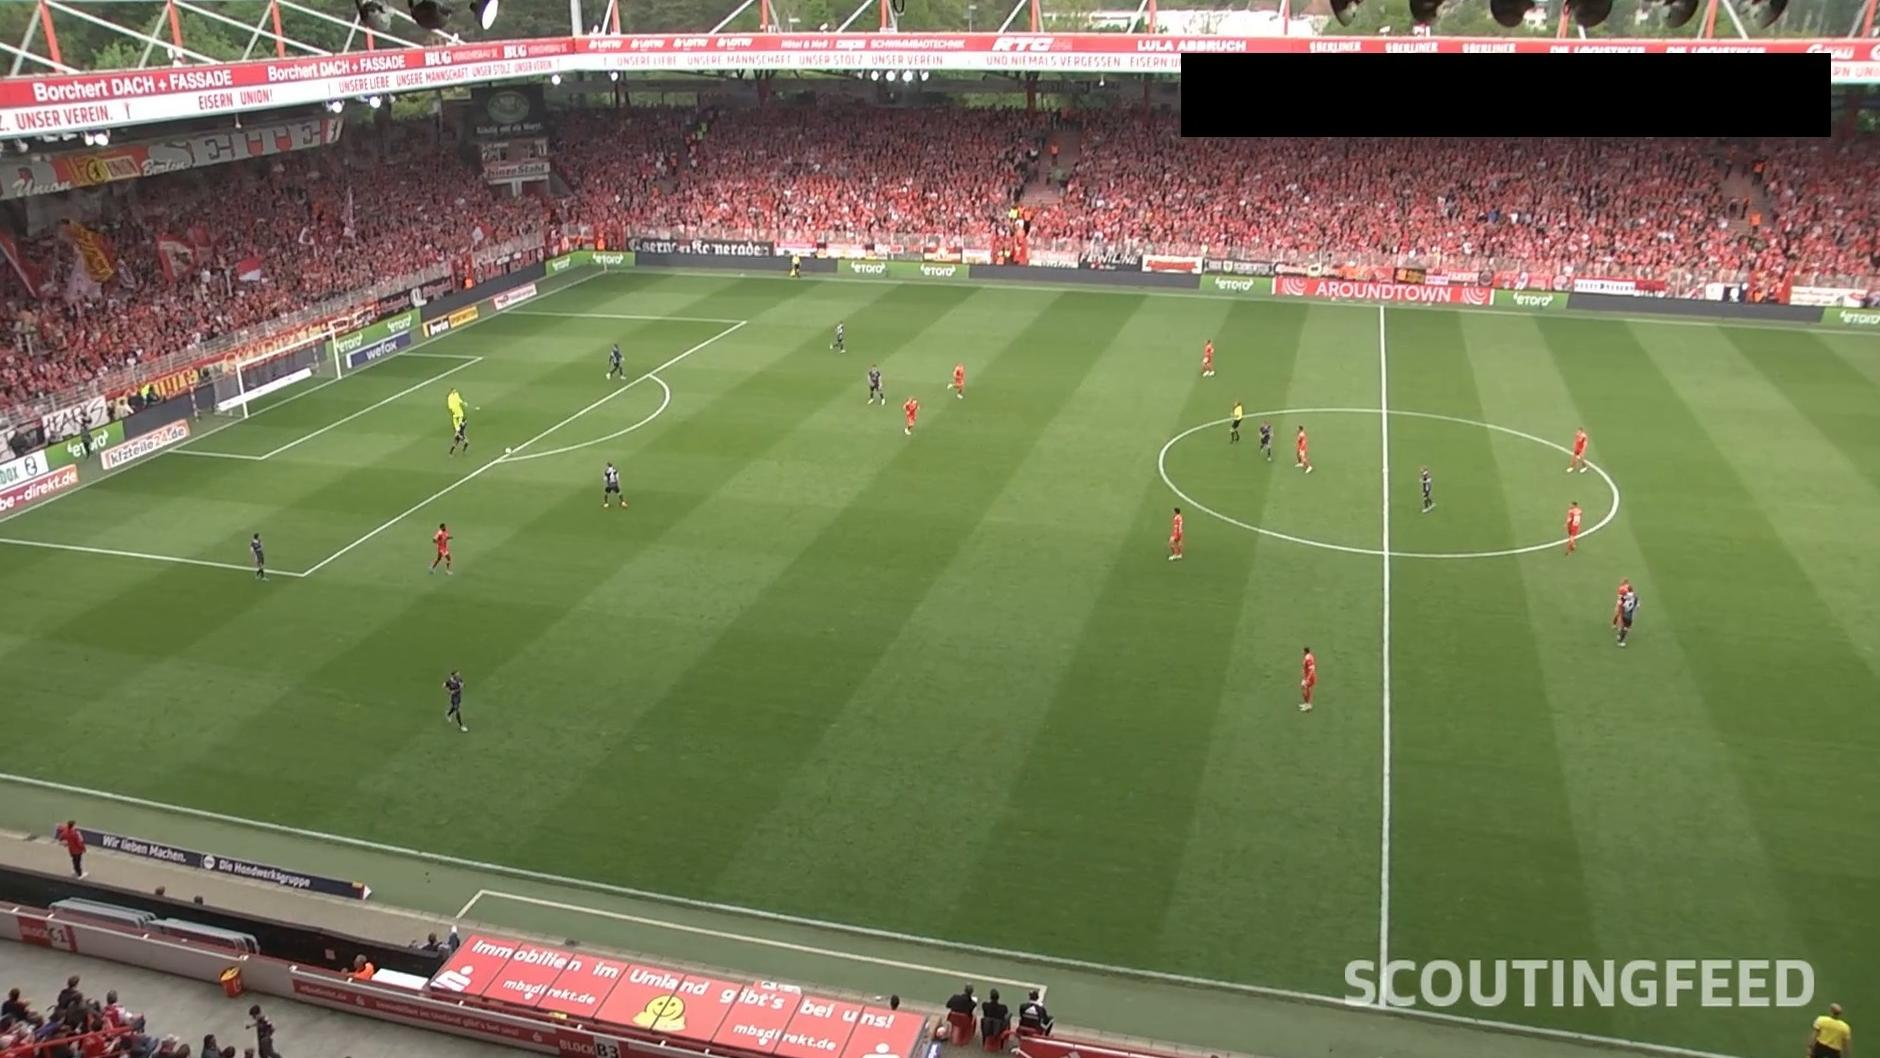ball: (505, 446, 511, 455)
